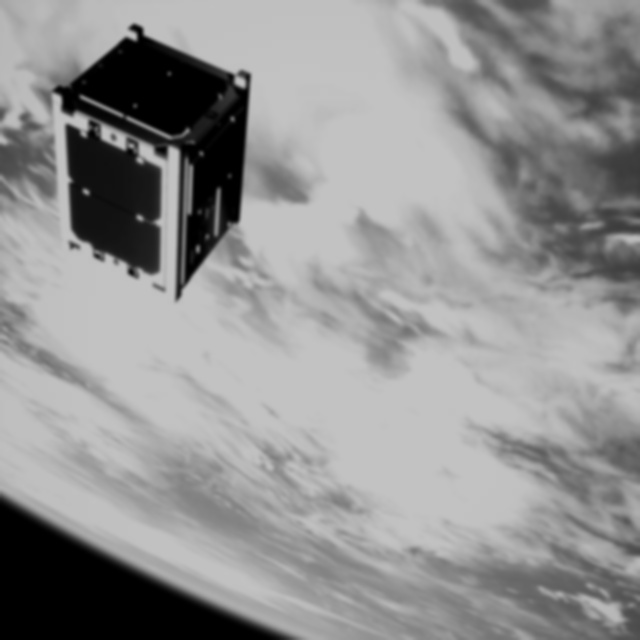satellite: (44, 22, 257, 308)
